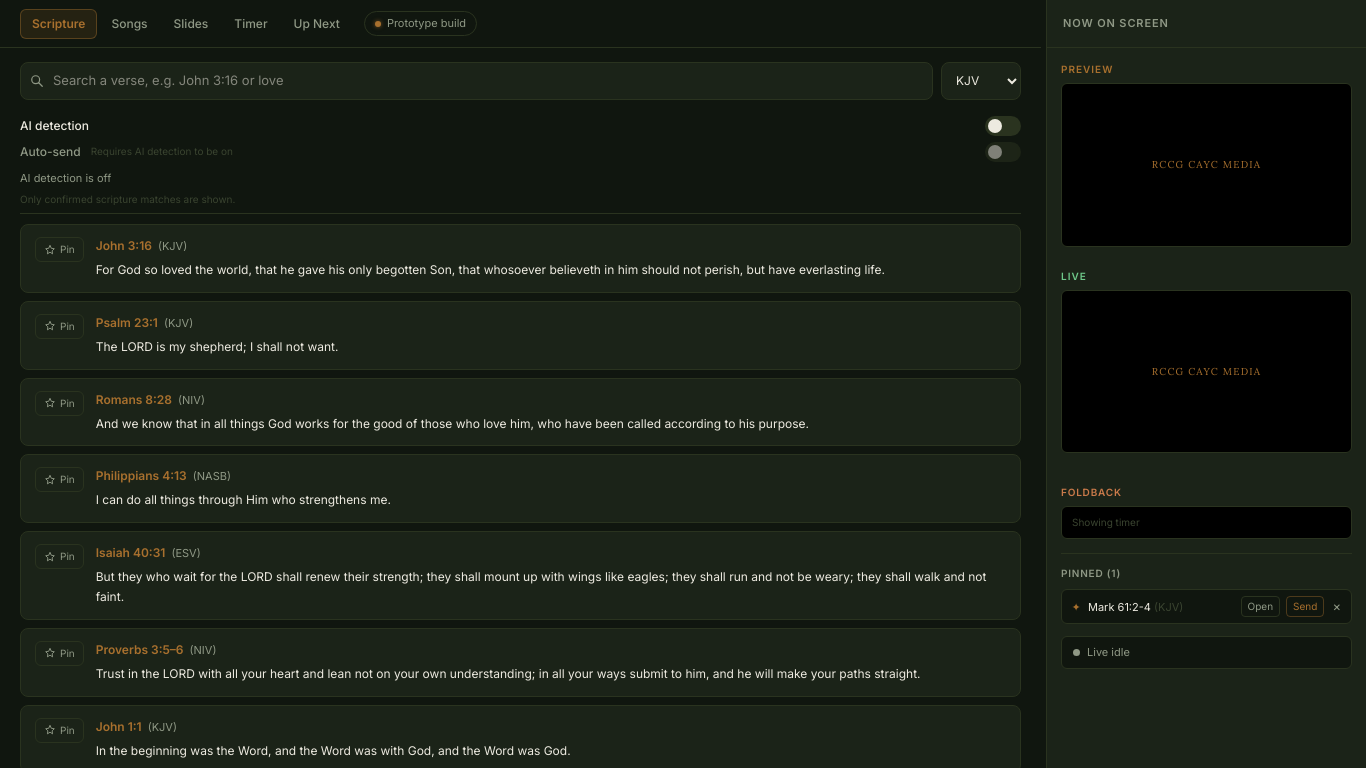
Scenario: OperatorScreen pin behavior — Open/Send (Section 27.9-11) › clicking Open on a structured Scripture pin reconstructs the reading view with the correct Group
The width and height of the screenshot is (1366, 768).
Click the button "Open".
click(1260, 607)  # box 1241,596 -> 1280,617
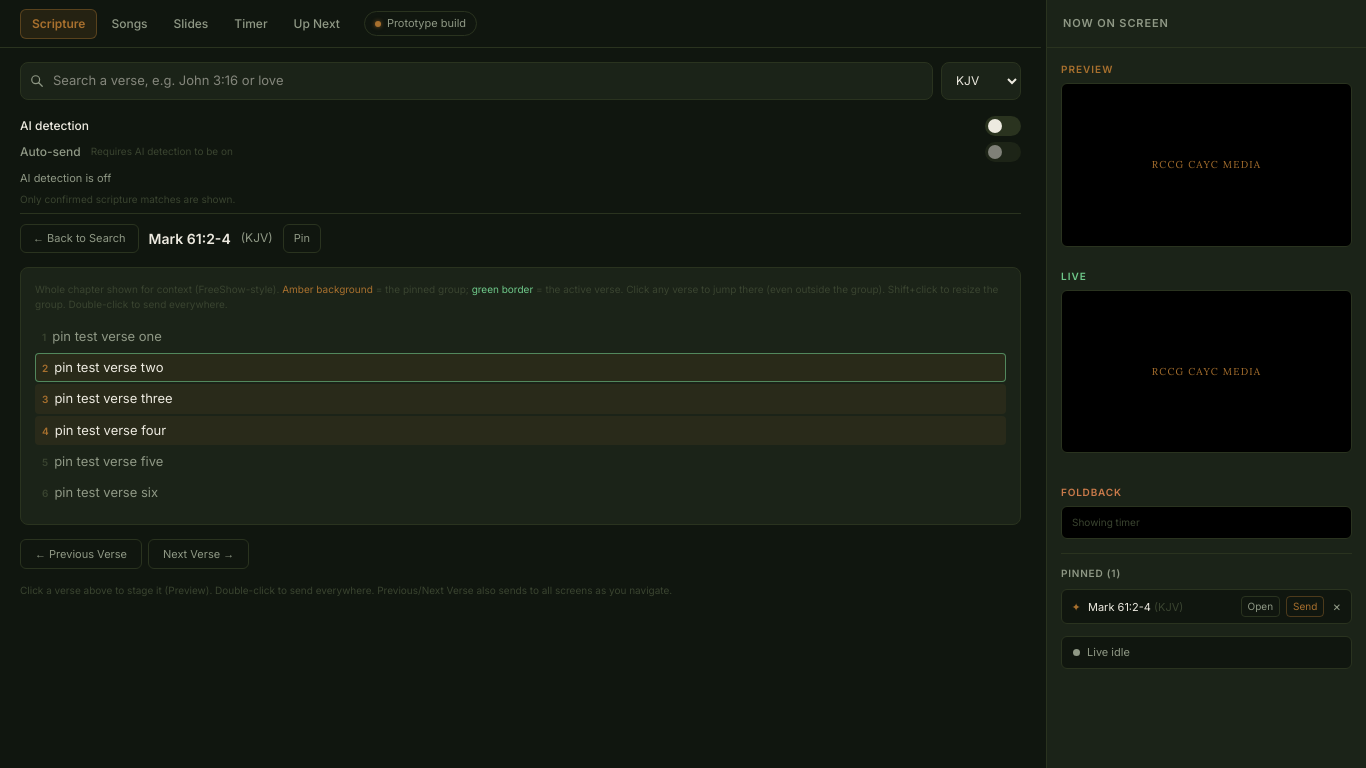
Expected: the button "← Back to Search" is shown, 20,224 -> 139,252
Expected: the text "pin test verse two" is shown, 54,359 -> 163,375
